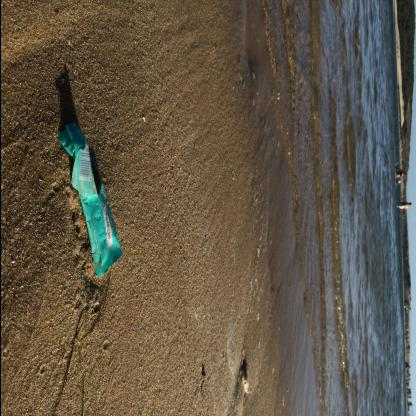plastik: (55, 122, 125, 280)
